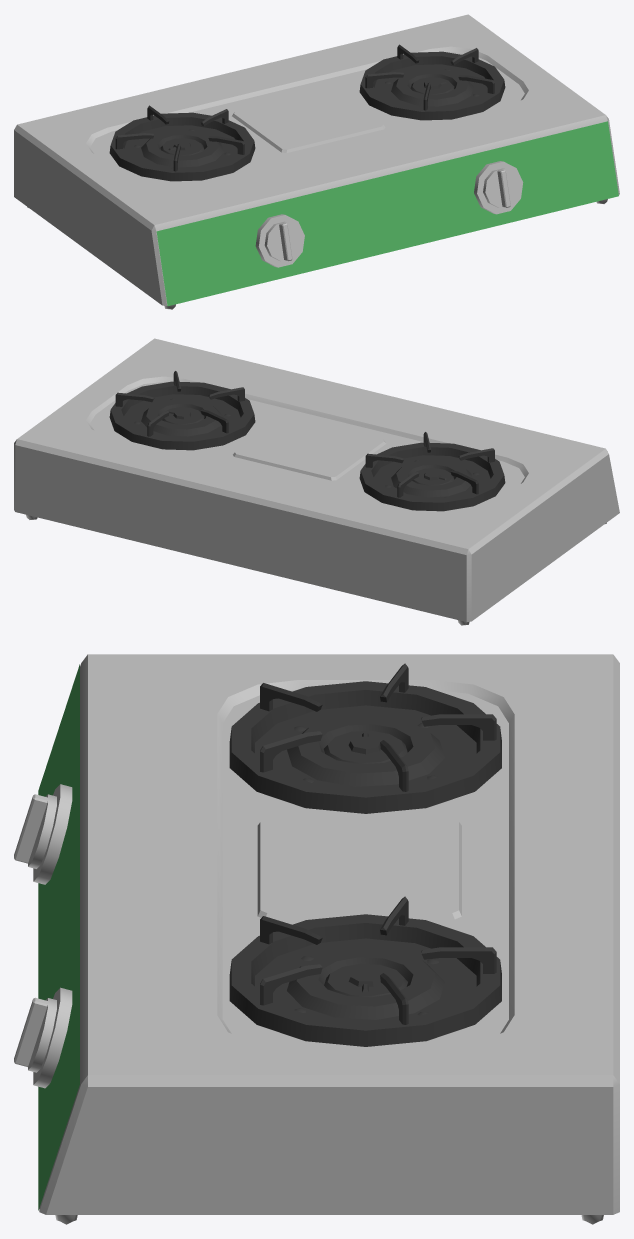
The model's file is LNR2CNB.FBX.
The picture shows the model from 3 angles, top to bottom: view 1: azimuth 30°, elevation 25°; view 2: azimuth 150°, elevation 25°; view 3: azimuth 270°, elevation 25°; orthographic projection. The views are drawn at different scales.
Parts seen in each view (by area): view 1: LNR2CNB; view 2: LNR2CNB; view 3: LNR2CNB.
Boxes of the visible parts, x1,y1,x2,y2 form: LNR2CNB: [14, 14, 619, 309]; LNR2CNB: [14, 338, 619, 625]; LNR2CNB: [14, 654, 619, 1224].
Bounding box in the file's own units: 73 × 43.82 × 15.29.
